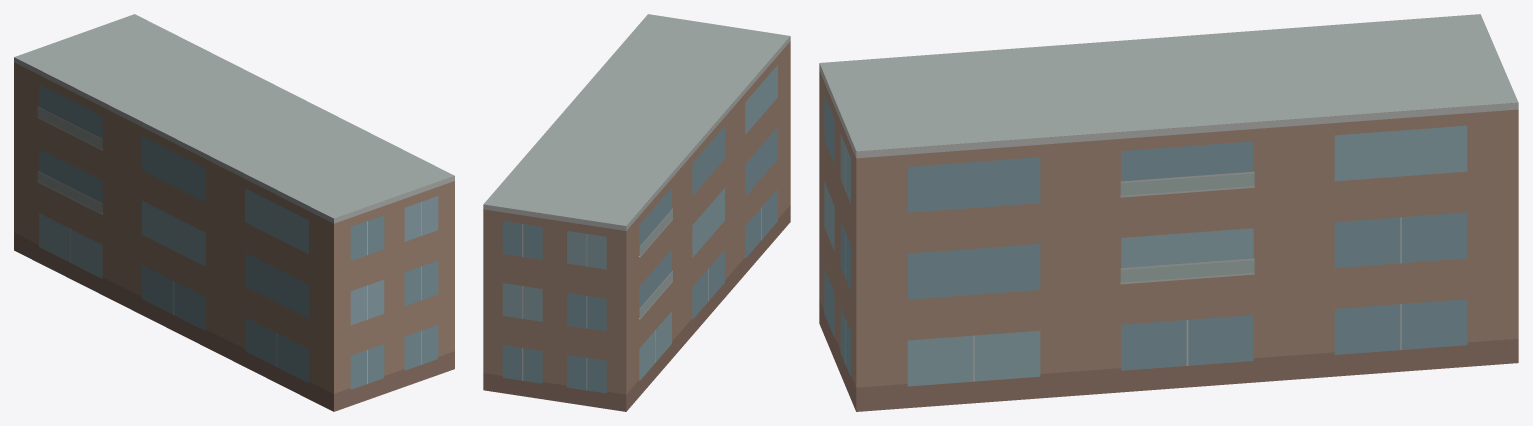
Rendered from survey-upis-32708128.glb.
3 views of the same model, side by side, from view 1: azimuth 30°, elevation 25°; view 2: azimuth 150°, elevation 25°; view 3: azimuth 270°, elevation 25° (orthographic). The views are drawn at different scales.
Parts seen in each view (by area): view 1: survey-upis-32708128.tmp; view 2: survey-upis-32708128.tmp; view 3: survey-upis-32708128.tmp.
Boxes of the visible parts, left/top/right/bottom form: survey-upis-32708128.tmp: left=14, top=14, right=454, bottom=411; survey-upis-32708128.tmp: left=483, top=14, right=790, bottom=411; survey-upis-32708128.tmp: left=819, top=14, right=1518, bottom=411.
Size of the model in its own units: 10.37 by 9.15 by 22.27.
